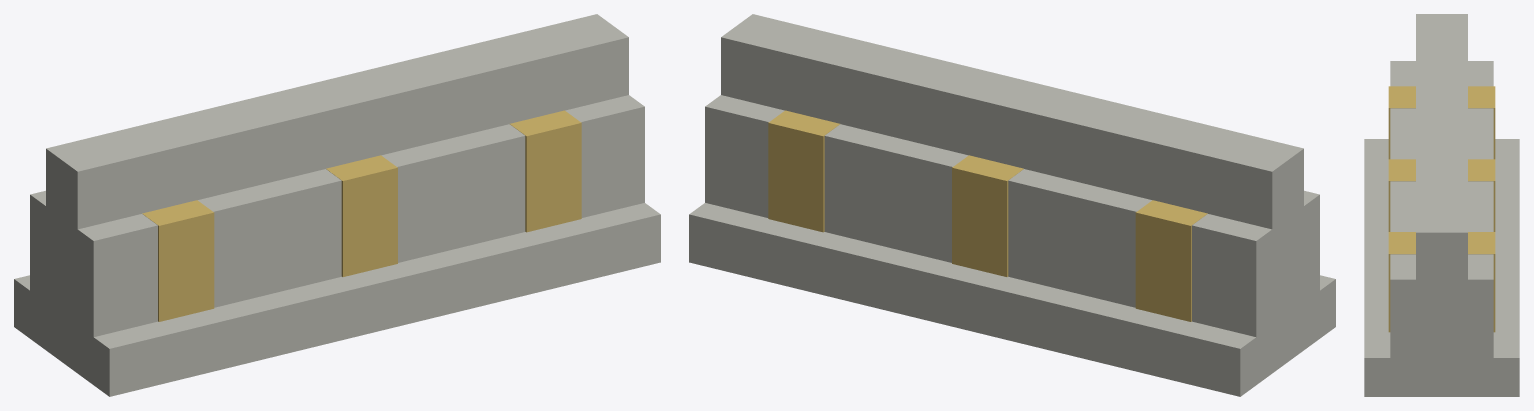
Rendered from zombie-quarantine-streets-concrete-jersey-barrier-fe81cf2f.glb.
3 views of the same model, side by side, from view 1: azimuth 30°, elevation 25°; view 2: azimuth 150°, elevation 25°; view 3: azimuth 270°, elevation 25° (orthographic). The views are drawn at different scales.
Visible parts, largest first — view 1: concrete-jersey-barrier; view 2: concrete-jersey-barrier; view 3: concrete-jersey-barrier.
Boxes of the visible parts, x1,y1,x2,y2 form: concrete-jersey-barrier: [14, 14, 660, 396]; concrete-jersey-barrier: [689, 14, 1335, 396]; concrete-jersey-barrier: [1364, 14, 1519, 396].
Bounding box in the file's own units: 3 × 1.05 × 0.8999.
